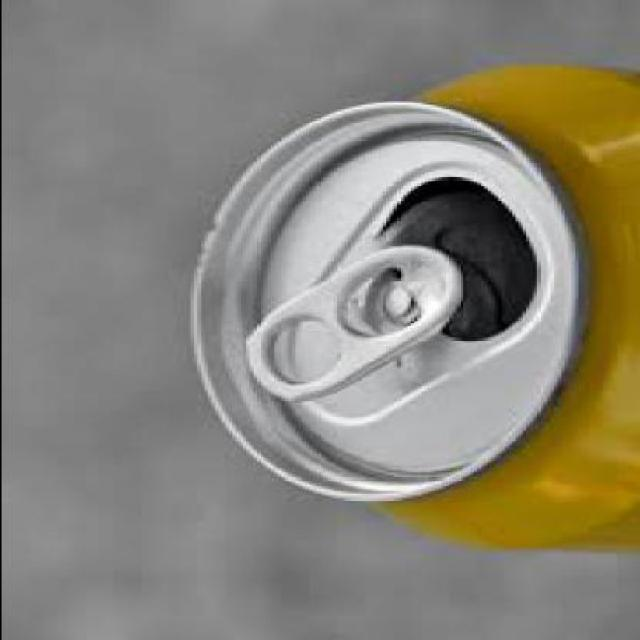METAL: (186, 60, 636, 549)
